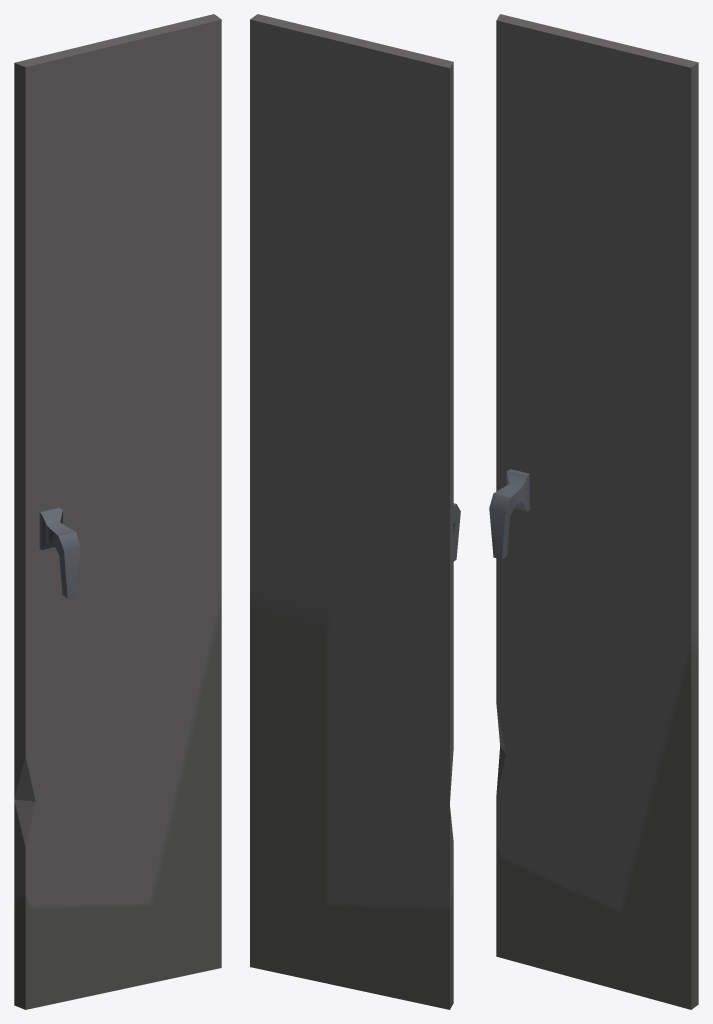
Rendered from SM_Prop_Cabinet_Door_02.fbx.
The picture shows the model from 3 angles, left to right: view 1: azimuth 30°, elevation 25°; view 2: azimuth 150°, elevation 25°; view 3: azimuth 330°, elevation 25°; orthographic projection.
Parts seen in each view (by area): view 1: SM_Prop_Cabinet_Door_02; view 2: SM_Prop_Cabinet_Door_02; view 3: SM_Prop_Cabinet_Door_02.
Part boxes in pixels (box(x1,y1,x2,y2)): SM_Prop_Cabinet_Door_02: box(14, 14, 221, 1009); SM_Prop_Cabinet_Door_02: box(250, 14, 460, 1009); SM_Prop_Cabinet_Door_02: box(489, 14, 698, 1009).
Bounding box in the file's own units: 49.37 × 224 × 13.01.
